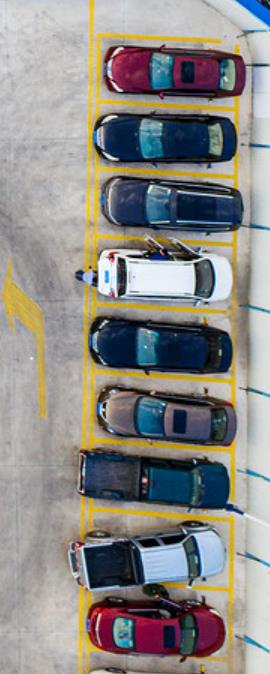car: (66, 518, 228, 593), (78, 447, 233, 514), (86, 596, 227, 667), (92, 235, 234, 305), (94, 382, 240, 449), (99, 170, 247, 236), (87, 311, 232, 378), (101, 37, 247, 101), (93, 106, 239, 168)
